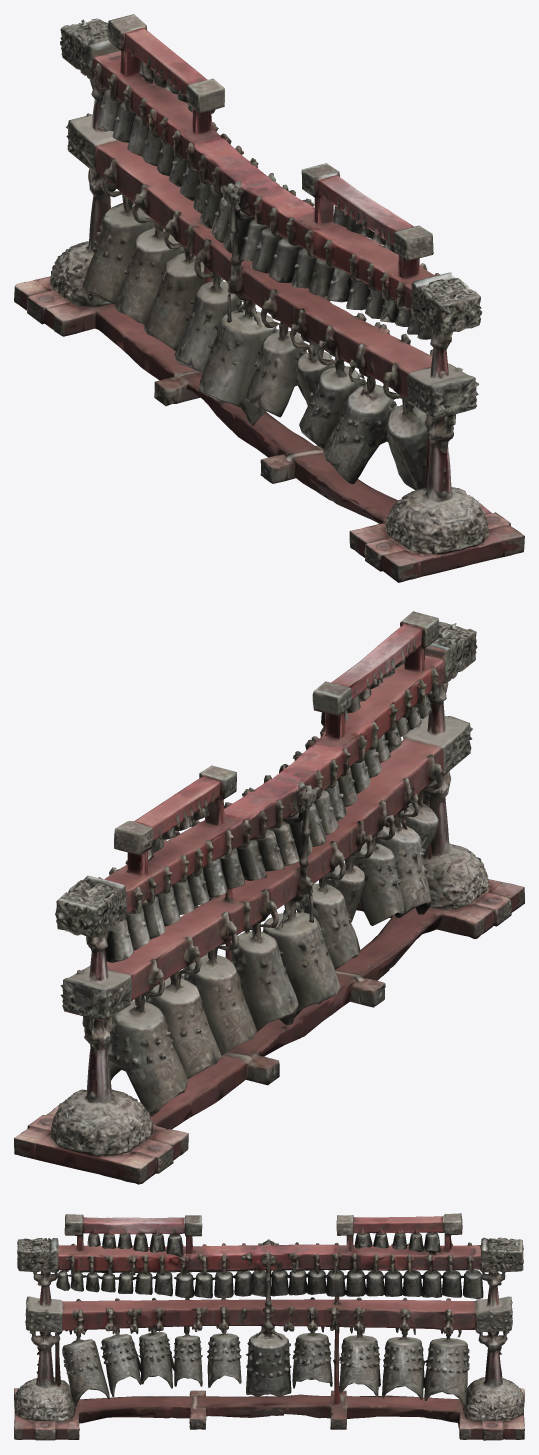
Rendered from zenghouyi-bells-web-mobile.glb.
3 views of the same model, one above another, from view 1: azimuth 30°, elevation 25°; view 2: azimuth 150°, elevation 25°; view 3: azimuth 270°, elevation 25° (orthographic). The views are drawn at different scales.
Visible parts, largest first — view 1: tripo_node_64e38e68-55ed-4276-8192-430267c3938e; view 2: tripo_node_64e38e68-55ed-4276-8192-430267c3938e; view 3: tripo_node_64e38e68-55ed-4276-8192-430267c3938e.
Part boxes in pixels (x1,y1,x2,y2): tripo_node_64e38e68-55ed-4276-8192-430267c3938e: [14, 14, 524, 582]; tripo_node_64e38e68-55ed-4276-8192-430267c3938e: [14, 611, 524, 1184]; tripo_node_64e38e68-55ed-4276-8192-430267c3938e: [14, 1213, 524, 1440].
Bounding box in the file's own units: 0.195 × 0.4409 × 0.9795.
1 material, 1 textured.
